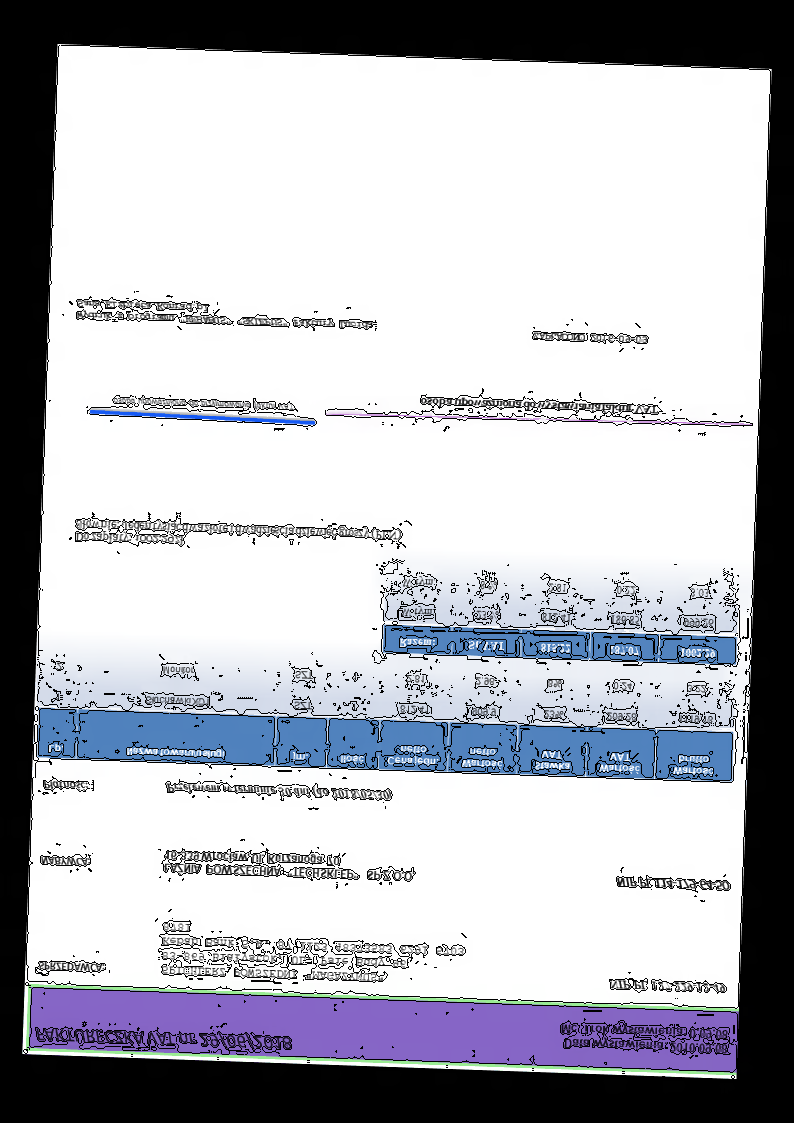Table: (34, 644, 738, 784), (381, 562, 741, 667)
TextBox: (159, 920, 467, 988), (73, 516, 403, 556), (74, 298, 375, 333), (162, 848, 416, 886), (33, 1024, 294, 1054), (557, 1021, 730, 1057), (418, 394, 660, 419), (163, 778, 395, 803), (110, 394, 295, 413), (607, 976, 727, 996), (614, 875, 733, 892), (531, 329, 649, 346), (36, 959, 107, 975), (37, 854, 94, 869), (41, 778, 90, 794)
